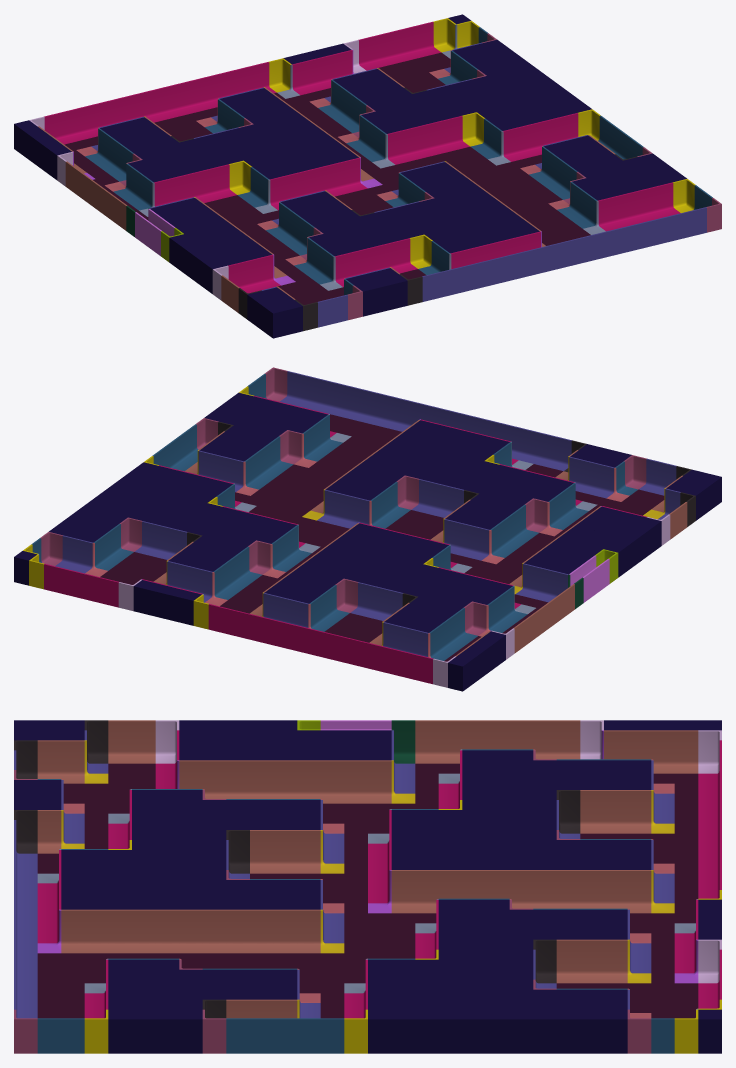
Rendered from dungeonMap.obj.
3 views of the same model, one above another, from view 1: azimuth 30°, elevation 25°; view 2: azimuth 150°, elevation 25°; view 3: azimuth 270°, elevation 25° (orthographic). The views are drawn at different scales.
Bounding box in the file's own units: 150 × 8 × 150.
